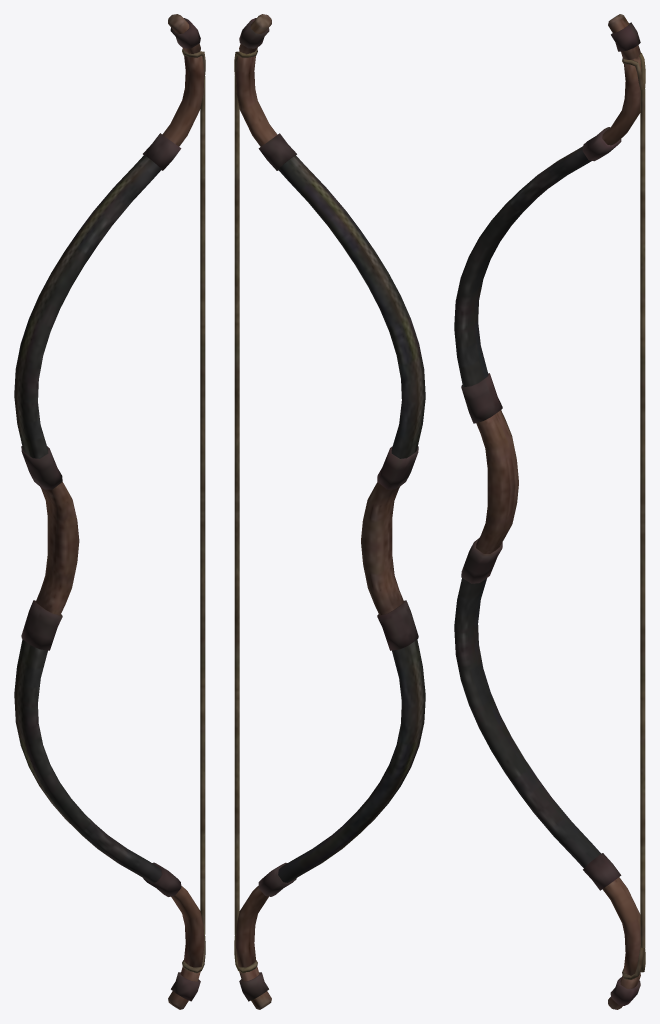
The model's file is weapon-wp_a_1401.glb.
The picture shows the model from 3 angles, left to right: view 1: azimuth 30°, elevation 25°; view 2: azimuth 150°, elevation 25°; view 3: azimuth 330°, elevation 25°; orthographic projection.
Visible parts, largest first — view 1: wp_a_1401_mesh; view 2: wp_a_1401_mesh; view 3: wp_a_1401_mesh.
Part boxes in pixels (bbox=[...]): wp_a_1401_mesh: bbox=[14, 14, 205, 1009]; wp_a_1401_mesh: bbox=[234, 14, 425, 1009]; wp_a_1401_mesh: bbox=[454, 14, 645, 1009].
Size of the model in its own units: 0.2231 by 1.13 by 0.0393.
1 material, 1 textured.
